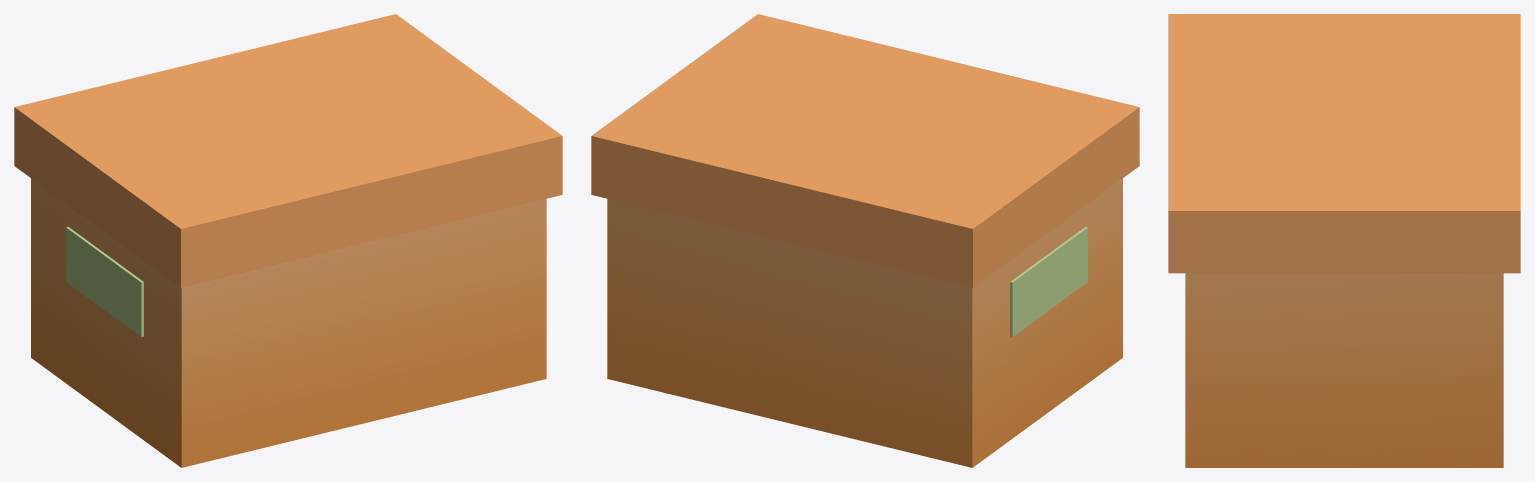
Rendered from BoxBookcase.FBX.
3 views of the same model, side by side, from view 1: azimuth 30°, elevation 25°; view 2: azimuth 150°, elevation 25°; view 3: azimuth 270°, elevation 25° (orthographic). The views are drawn at different scales.
Parts seen in each view (by area): view 1: Box_Bookcase; view 2: Box_Bookcase; view 3: Box_Bookcase.
Boxes of the visible parts, box(x1,y1,x2,y2) form: Box_Bookcase: box(14, 14, 562, 467); Box_Bookcase: box(591, 14, 1139, 467); Box_Bookcase: box(1168, 14, 1520, 467).
Bounding box in the file's own units: 14.4 × 8.9 × 10.89.
